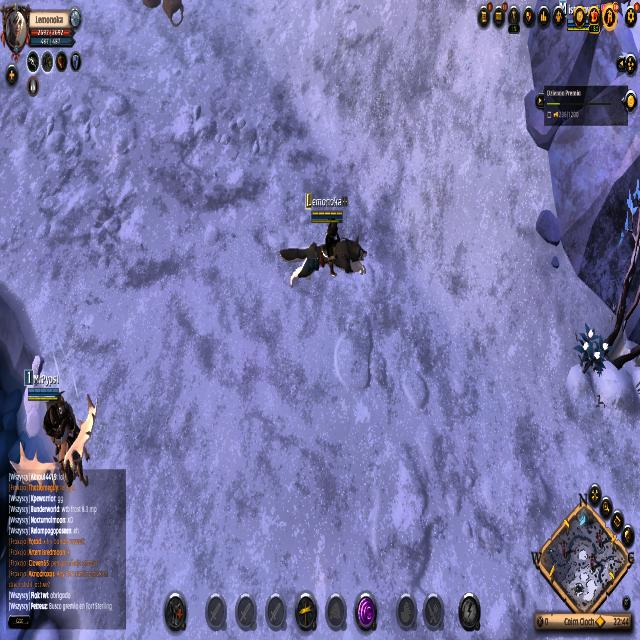fiber tier 4: (574, 318, 612, 386)
